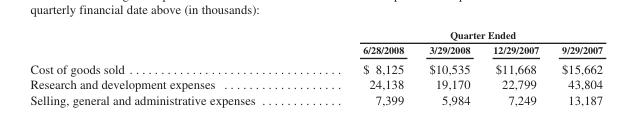table: (29, 28, 602, 106)
table column: (29, 28, 308, 106), (308, 28, 415, 106), (480, 28, 549, 106), (415, 28, 480, 106), (549, 28, 602, 106)
table column header: (29, 28, 602, 58)
table row: (29, 58, 602, 76), (29, 41, 602, 58), (29, 76, 602, 91), (29, 91, 602, 106), (29, 28, 602, 41)
table spanning cell: (308, 28, 602, 41)
